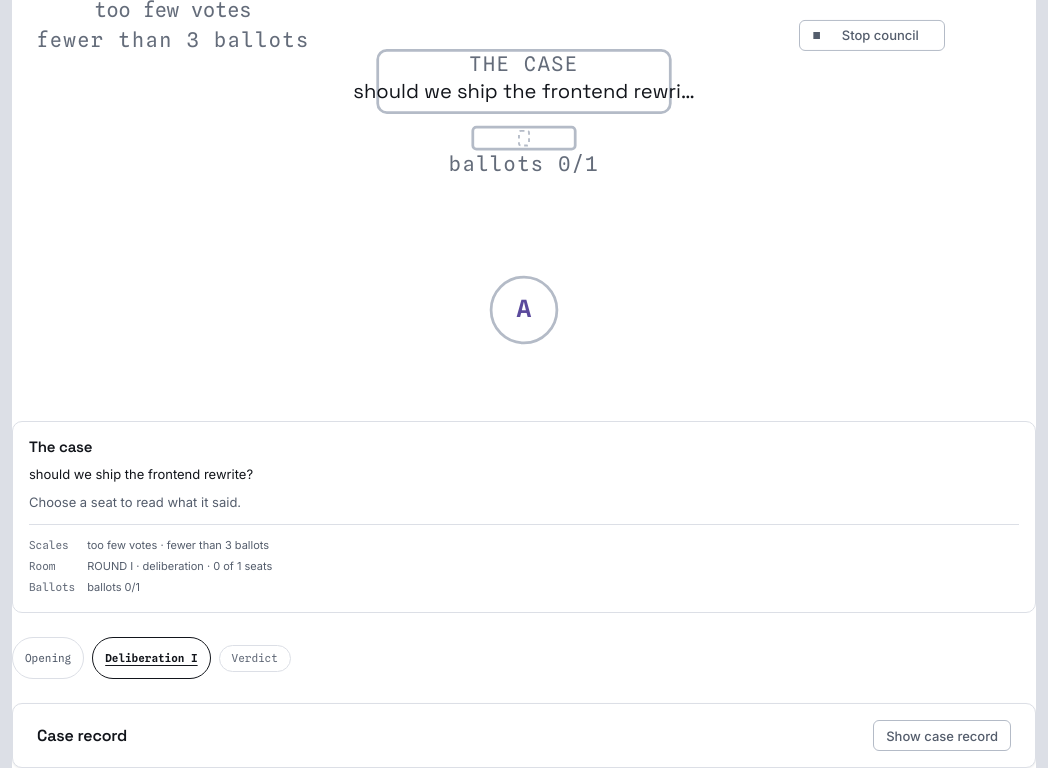
it: Council - a seat's answer › renders its markdown as rich text, and never as HTML
The image size is (1048, 768).
(page scrolled)
Click the button "Show case record" at [942, 736], box top-left (873, 720), bottom-right (1011, 751)
(page scrolled)
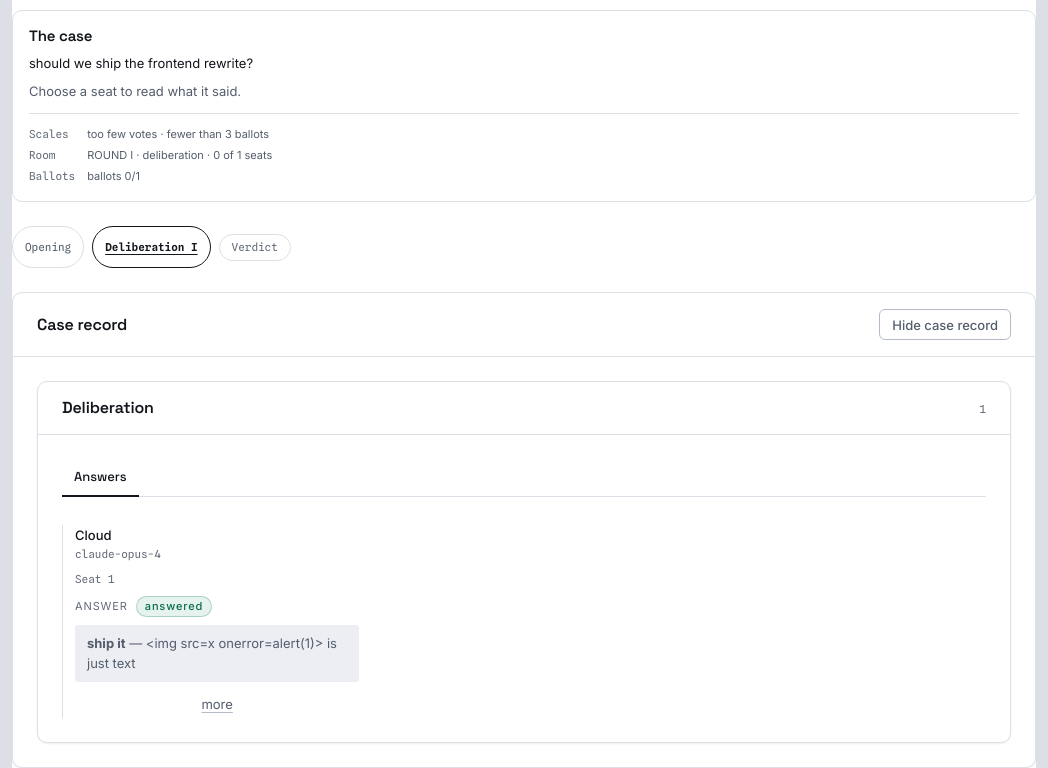
Result: the text "ship it" is shown at top-left (87, 635), bottom-right (126, 651)
